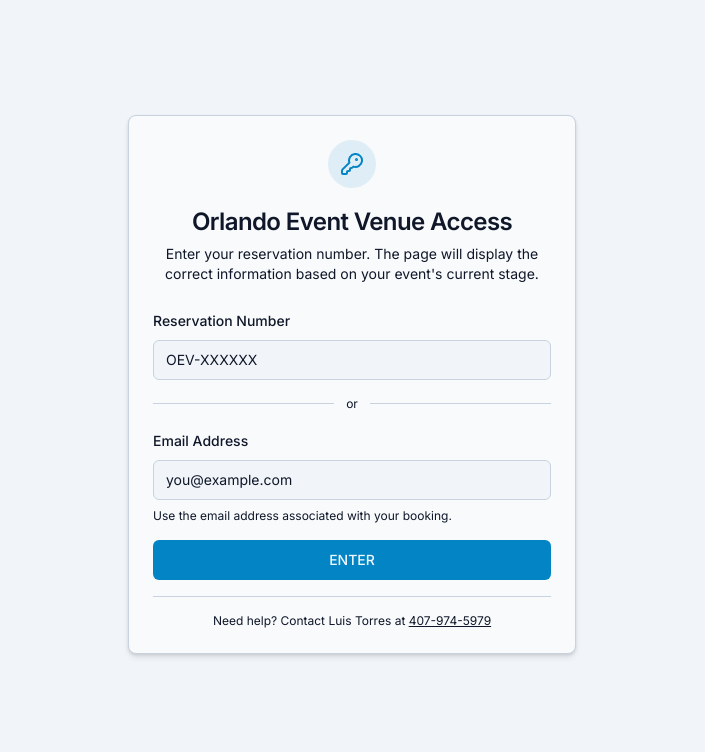
Test: AccessCode — recurring access codes › shows the door code and instructions without the guest report
Type "OEV-RFCG01" into the field labelled "Reservation Number".
click(352, 360); type("OEV-RFCG01")  # box [153,340,551,380]
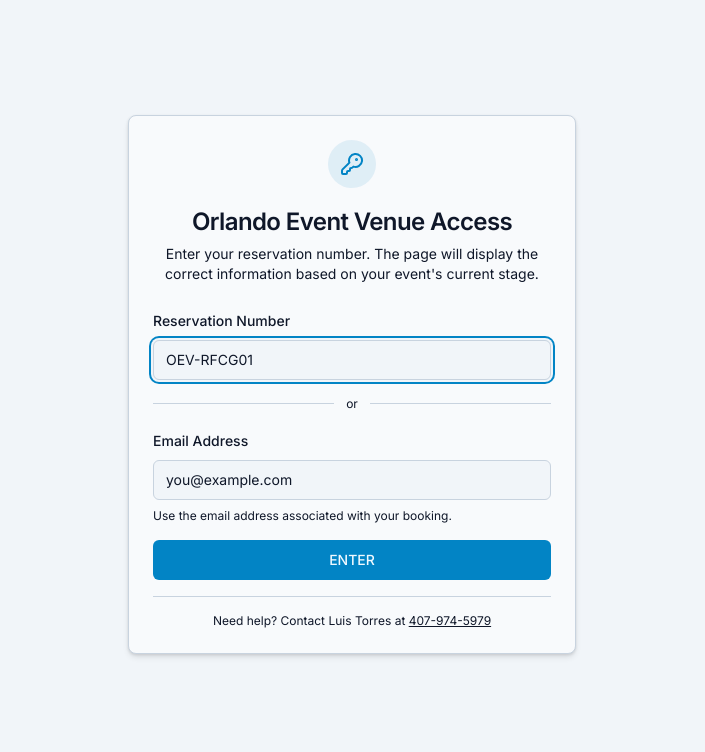
Click the button "ENTER".
click(352, 560)  # box [153,540,551,580]
(page scrolled)
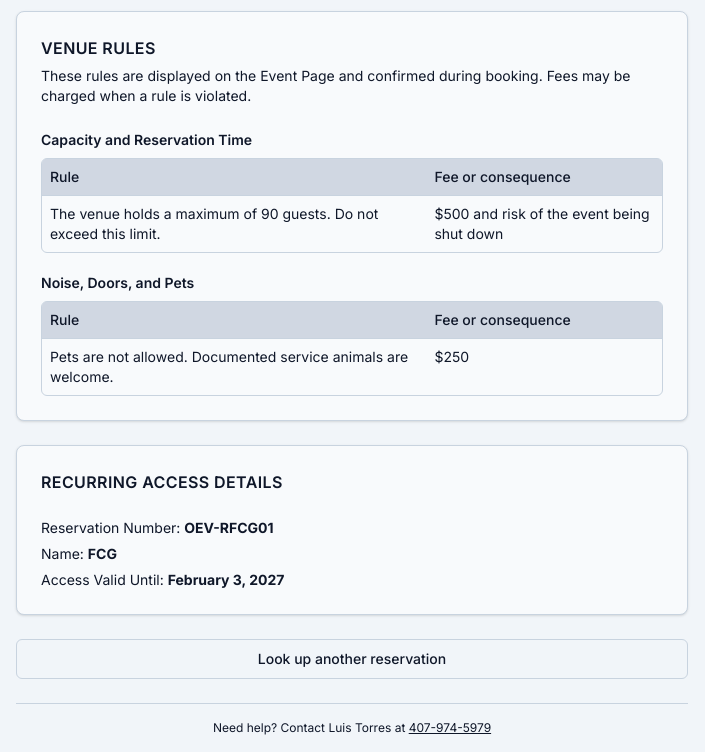
expect the text "Venue Rules" is shown: met, box [41,38,156,58]
expect the text "Recurring Access Details" is shown: met, box [41,472,283,492]
expect the text "OEV-RFCG01" is shown: met, box [184,519,274,536]
